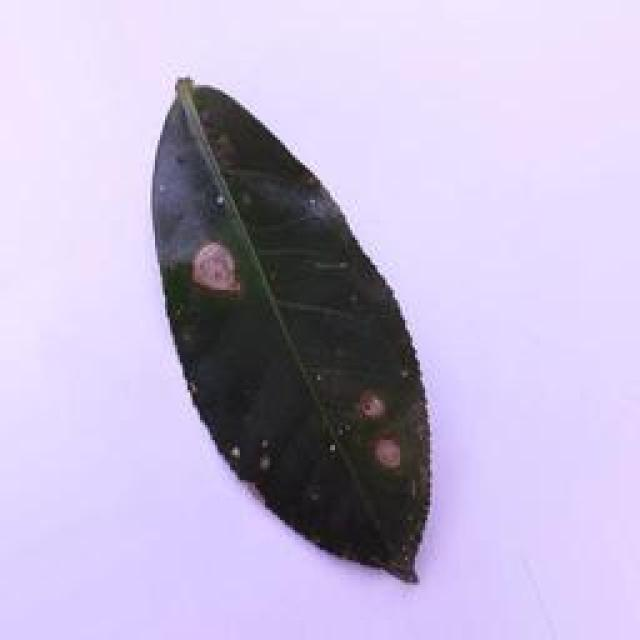Gray Blight: (148, 67, 442, 593)
